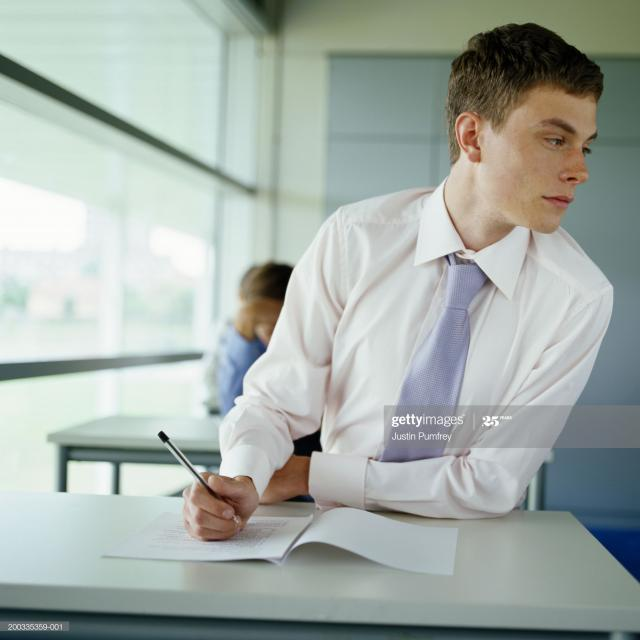cheating: (240, 15, 620, 394)
